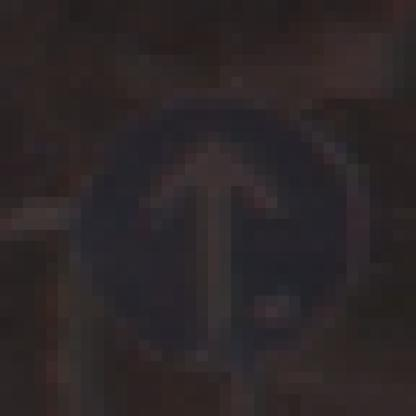AheadOnly: (59, 67, 348, 351)
